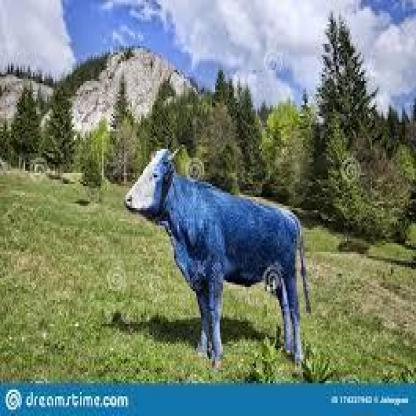cow: (124, 144, 314, 371)
